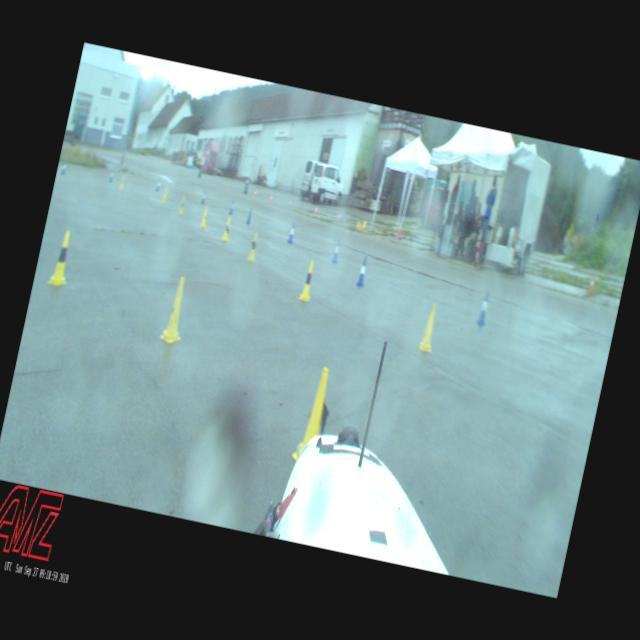blue_cone: (475, 290, 491, 325), (354, 256, 370, 286), (331, 238, 341, 262), (286, 222, 296, 242), (245, 204, 253, 224), (227, 198, 236, 214), (200, 188, 208, 203)
orange_cone: (588, 276, 596, 291)
yellow_cone: (290, 364, 332, 463), (159, 274, 193, 346), (47, 228, 77, 287), (418, 302, 441, 352), (298, 260, 317, 301), (247, 231, 260, 260), (200, 205, 210, 228), (222, 218, 232, 240), (178, 196, 186, 214)
